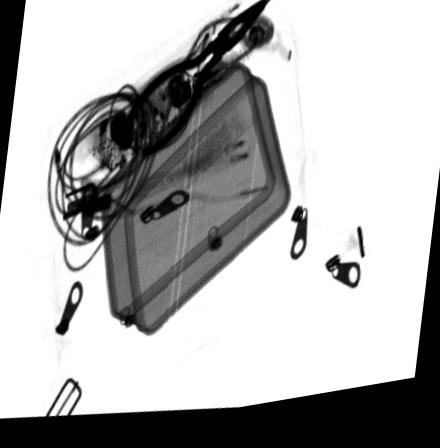Pliers: (122, 0, 276, 166)
